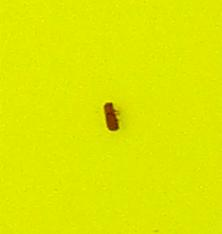Coleoptera: (100, 100, 122, 134)
